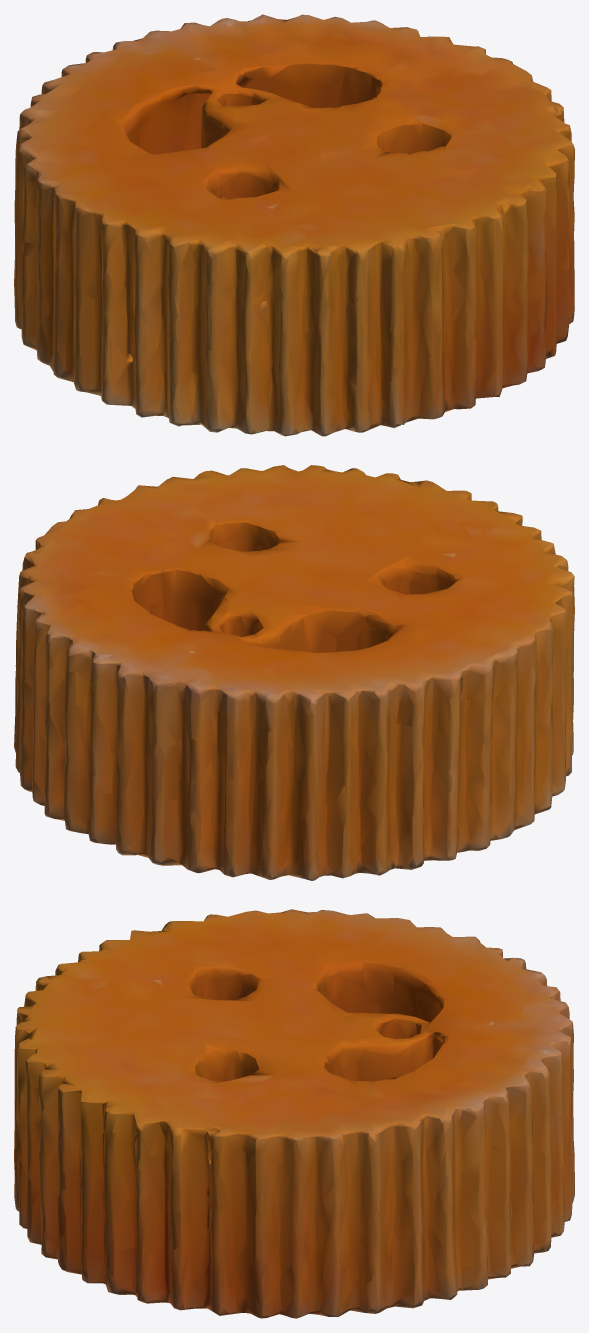
File: 0003_mask_004_orange_sponge.glb
The picture shows the model from 3 angles, top to bottom: view 1: azimuth 30°, elevation 25°; view 2: azimuth 150°, elevation 25°; view 3: azimuth 270°, elevation 25°; orthographic projection.
Parts seen in each view (by area): view 1: mask_004_object; view 2: mask_004_object; view 3: mask_004_object.
Part boxes in pixels (bbox=[...]): mask_004_object: bbox=[14, 14, 574, 436]; mask_004_object: bbox=[14, 465, 574, 880]; mask_004_object: bbox=[14, 909, 574, 1318].
Bounding box in the file's own units: 0.2066 × 0.0786 × 0.21.
